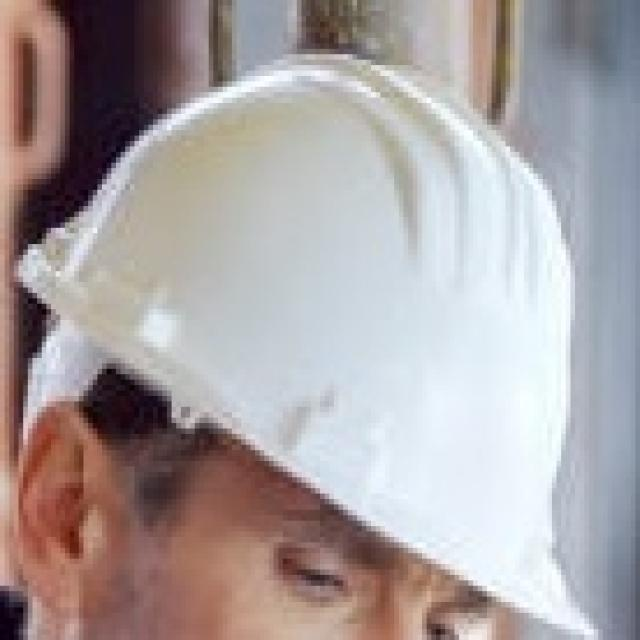safety_helmet: (13, 51, 598, 637)
